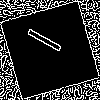I: (25, 25, 72, 60)
